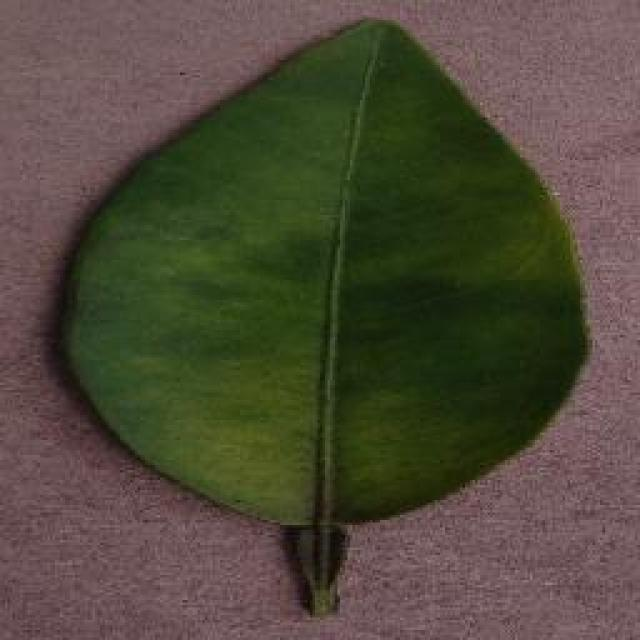Orange_Haunglongbing_Citrus_greening: (121, 99, 541, 488)
